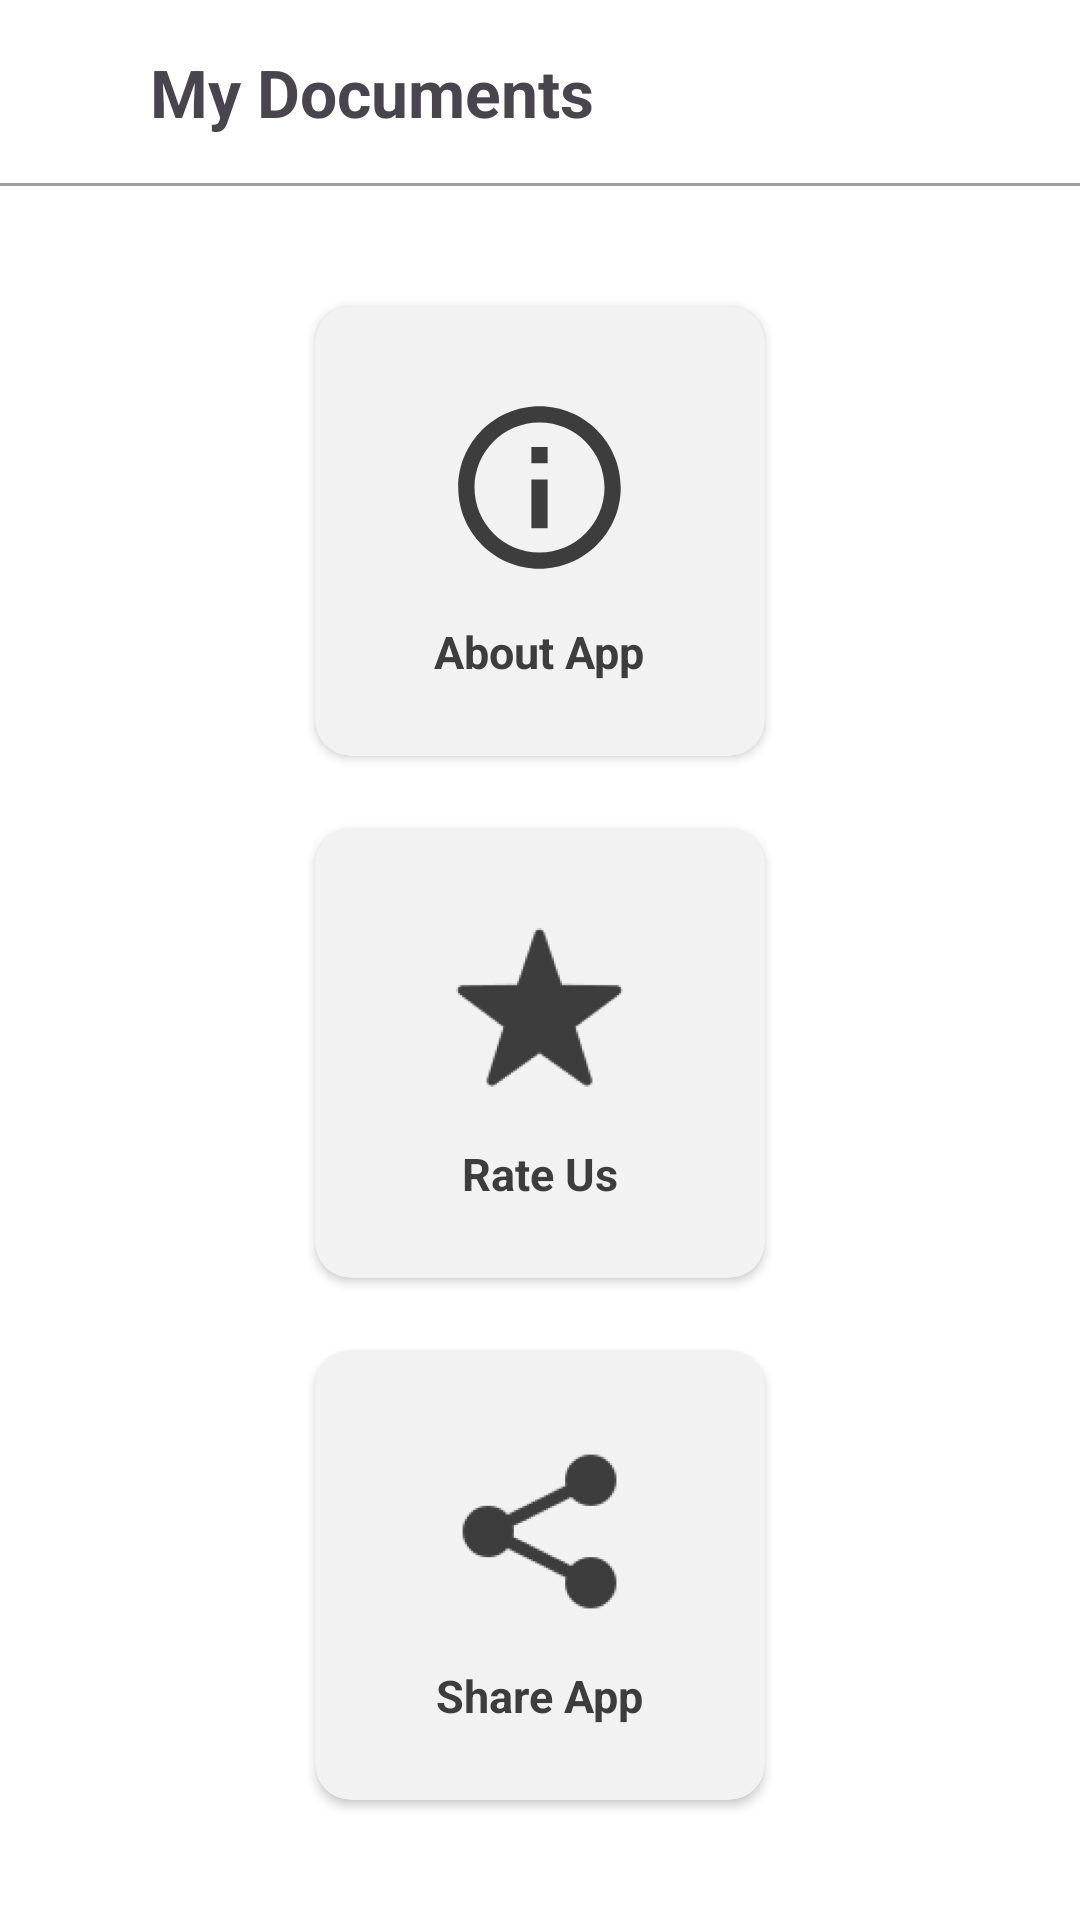

Where icons sit on this 1080 x 1920 app screen, as bbox(x1, y1, x2, y2):
info: bbox(458, 406, 621, 569)
star: bbox(456, 928, 623, 1087)
